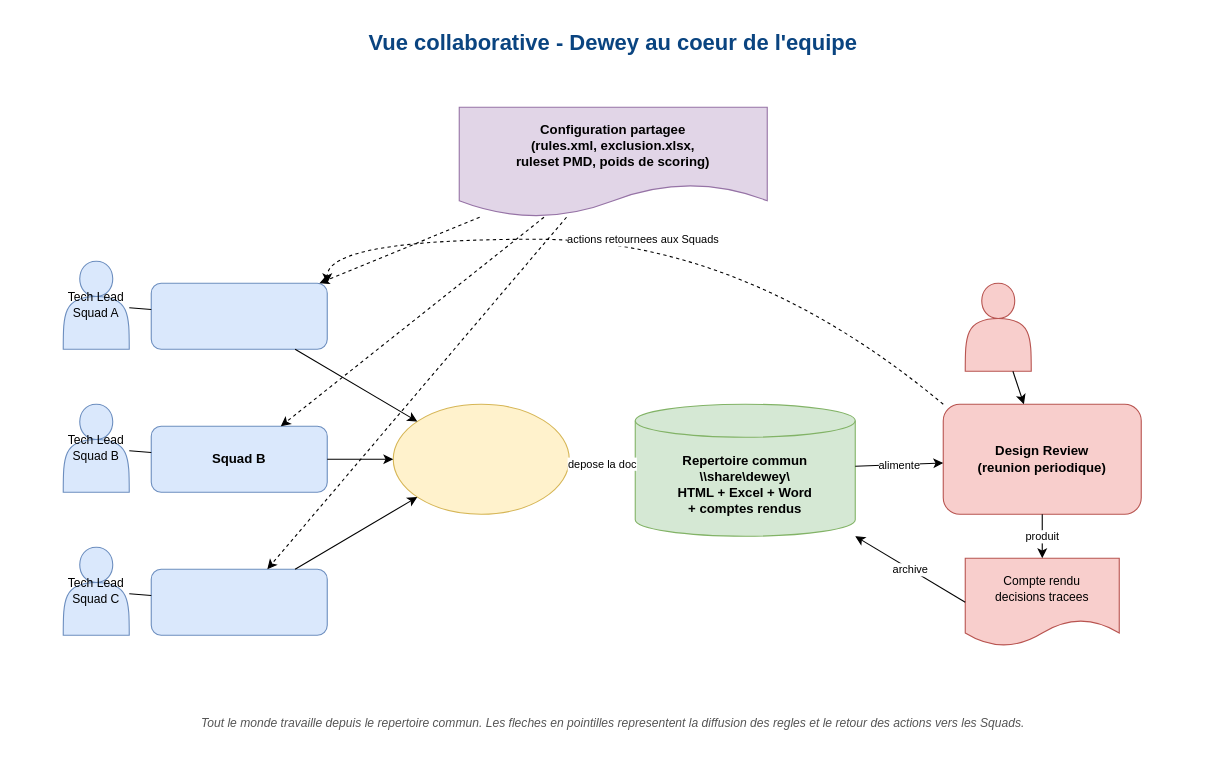
Some shapes in this 1225 by 763 pixel diagram are drawn without their labels. The shapes that lost their labels are listed below. From the top down, each one's centre as x and y in pixels, then its label:
At [238,315]: "Squad A".
At [997,326]: "Manager / Animateur Design Review".
At [480,458]: "Dewey (generation locale par chaque Squad)".
At [238,601]: "Squad C".
